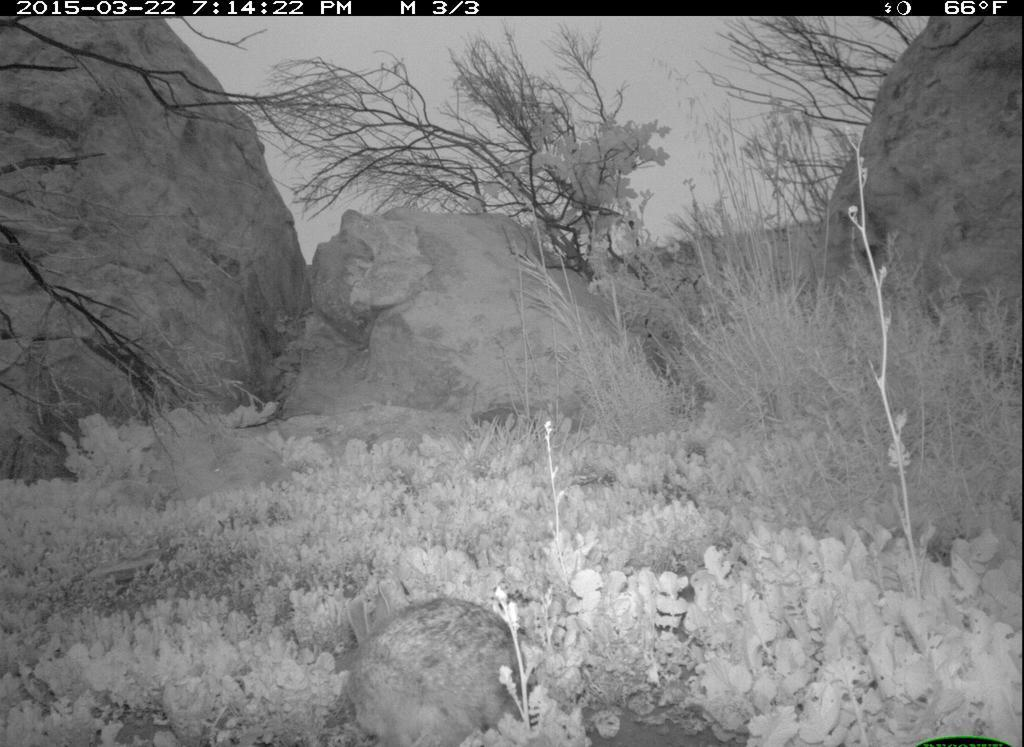rabbit: (300, 565, 601, 747)
